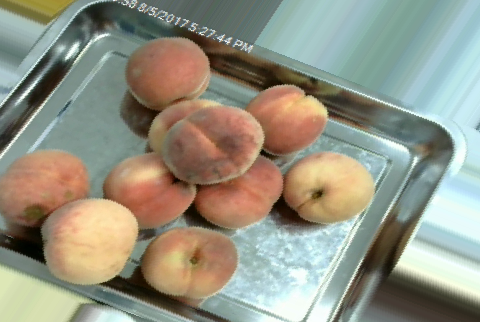Peach: (38, 197, 140, 284), (161, 105, 263, 184), (0, 149, 88, 229), (101, 152, 192, 229), (141, 227, 238, 298), (281, 152, 373, 223), (193, 155, 282, 227), (244, 85, 328, 155), (125, 38, 210, 107)
